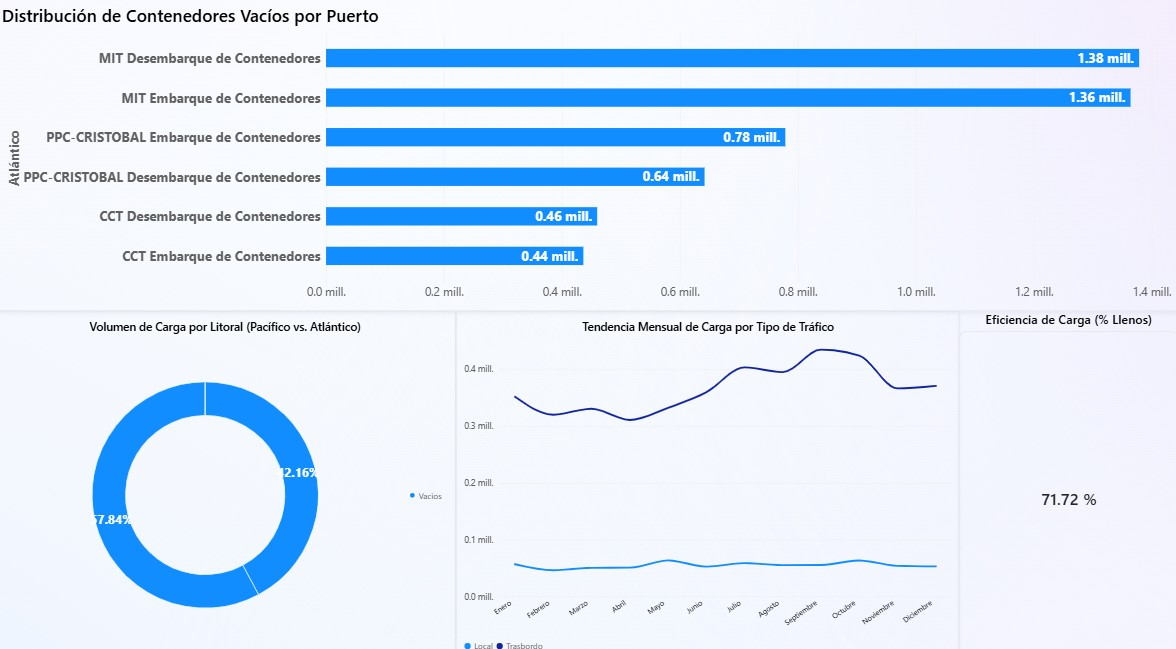

This screenshot's page, from the dashboard's own definition file:
{"tool":"powerbi","page":{"name":"Movimiento de Contenedores","canvas":[1920,1080],"ordinal":0},"visuals":[{"type":"barChart","title":"Distribución de Contenedores Vacíos por Puerto","fields":{"Category":["Tabla.Litoral","Tabla.Puerto"],"Y":["Sum(Tabla.Valor)"]},"box":[0,0,1920,510],"z":0},{"type":"donutChart","title":"Volumen de Carga por Litoral (Pacífico vs. Atlántico)","fields":{"Category":["Tabla.Estado_Contenedor"],"Series":["Tabla.Puerto"],"Y":["Sum(Tabla.Valor)"]},"box":[0,510,747.5,570],"z":1000},{"type":"lineChart","title":"Tendencia Mensual de Carga por Tipo de Tráfico","fields":{"Y":["Sum(Tabla.Valor)"],"Series":["Tabla.Tipo_Trafico"],"Category":["Tabla.Mes"]},"box":[747.5,510,815,570],"z":1001},{"type":"cardVisual","title":"Eficiencia de Carga (% Llenos)","fields":{"Data":["Tabla.% Contenedores Llenos"]},"box":[1562.5,510,357.5,570],"z":1002}]}

Visuals, with their boxes in screenshot pixels (x1, y1, x2, y2), scaled from the page's 1920x1080 canvas onto the 1176x649 screenshot:
"Distribución de Contenedores Vacíos por Puerto" barChart: (0,0,1175,306)
"Volumen de Carga por Litoral (Pacífico vs. Atlántico)" donutChart: (0,306,458,648)
"Tendencia Mensual de Carga por Tipo de Tráfico" lineChart: (458,306,957,648)
"Eficiencia de Carga (% Llenos)" cardVisual: (957,306,1175,648)
